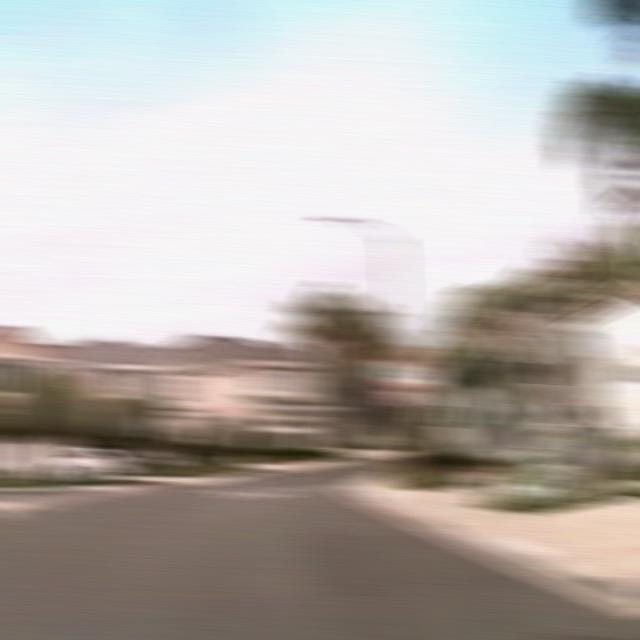stop_sign: (383, 383, 416, 408)
